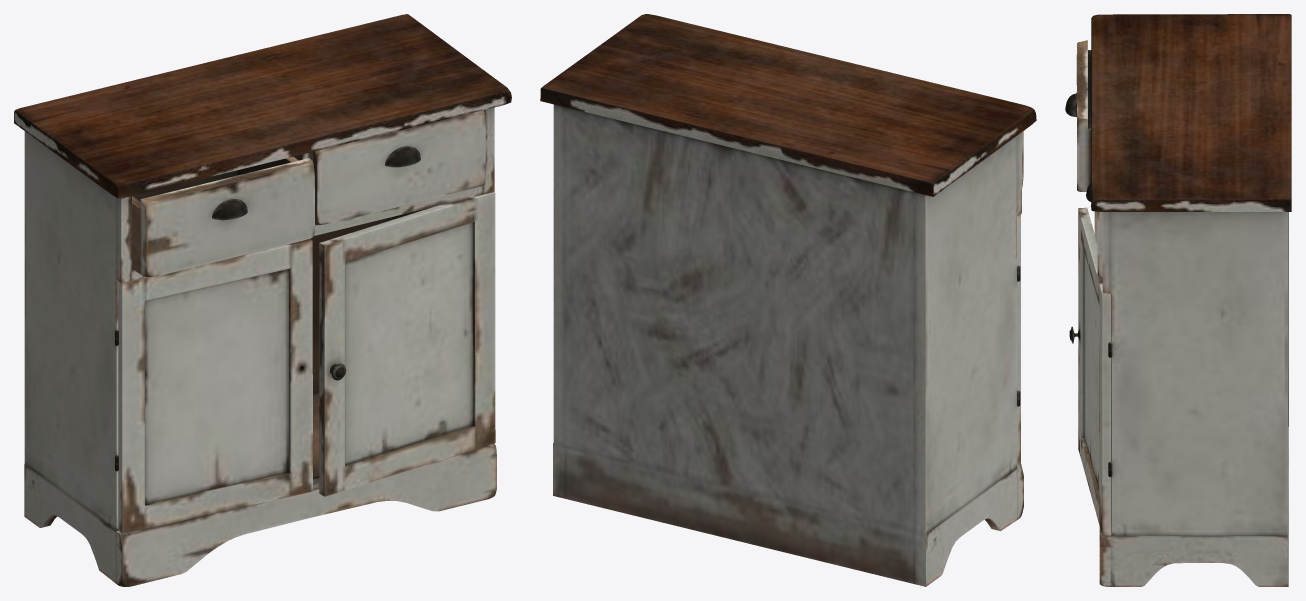
File: painted_wooden_cabinet.glb
3 views of the same model, side by side, from view 1: azimuth 30°, elevation 25°; view 2: azimuth 150°, elevation 25°; view 3: azimuth 270°, elevation 25° (orthographic). The views are drawn at different scales.
Parts seen in each view (by area): view 1: c15_wood, c06_wood, c04_wood, c13_wood, c14_wood, c01_wood, c17_wood, c19_wood, c07_wood, c09_wood, c02_wood, c21_wood (+2 smaller); view 2: c09_wood, c06_wood, c04_wood, c15_wood; view 3: c04_wood, c06_wood, c09_wood, c14_wood, c13_wood, c21_wood, c12_wood, c05_wood, c18_wood.
Part boxes in pixels (box(x1,y1,x2,y2)): c15_wood: box(118, 238, 312, 533); c06_wood: box(14, 14, 511, 198); c04_wood: box(24, 131, 431, 530); c13_wood: box(345, 222, 474, 467); c14_wood: box(319, 192, 495, 496); c01_wood: box(122, 446, 496, 586); c17_wood: box(313, 113, 485, 224); c19_wood: box(146, 165, 314, 276); c07_wood: box(118, 90, 511, 198); c09_wood: box(24, 443, 496, 586); c02_wood: box(121, 107, 494, 282); c21_wood: box(132, 158, 314, 277); c09_wood: box(553, 104, 1023, 586); c06_wood: box(540, 14, 1036, 196); c04_wood: box(925, 132, 1021, 533); c15_wood: box(1017, 214, 1020, 465); c04_wood: box(1102, 212, 1287, 535); c06_wood: box(1091, 14, 1291, 211); c09_wood: box(1099, 212, 1288, 586); c14_wood: box(1078, 207, 1110, 535); c13_wood: box(1081, 252, 1099, 501); c21_wood: box(1076, 40, 1091, 191); c12_wood: box(1081, 241, 1084, 437); c05_wood: box(1099, 361, 1287, 536); c18_wood: box(1097, 211, 1102, 277).
Bounding box in the file's own units: 1.19 × 1.18 × 0.6166.
1 material, 1 textured.
